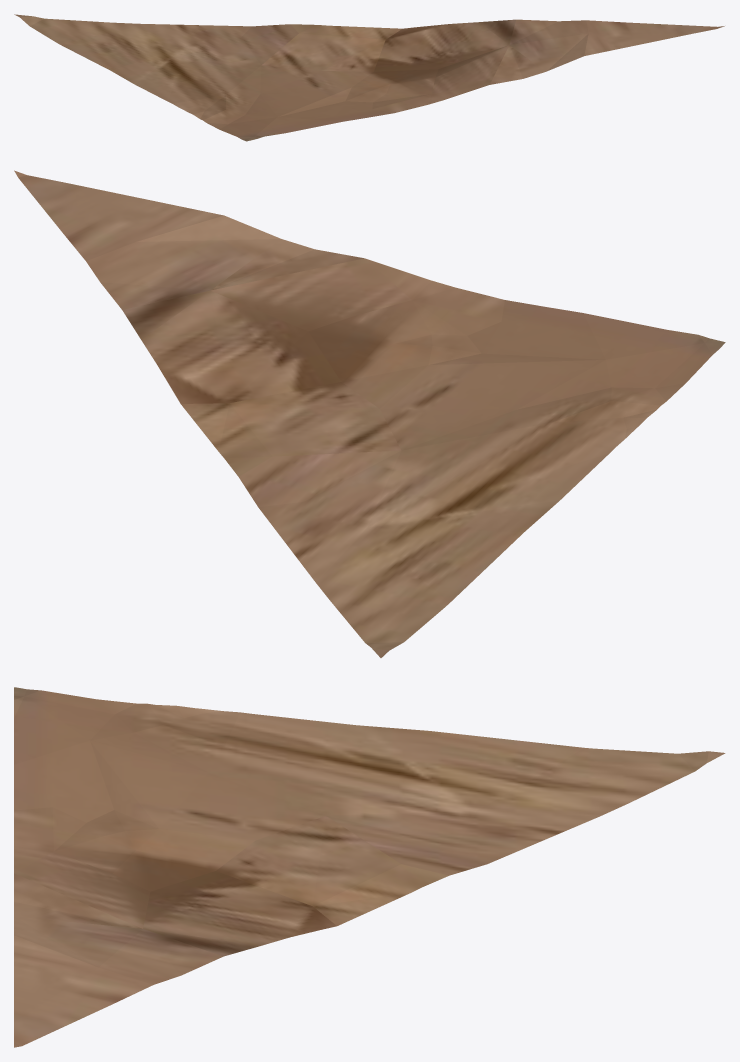
3 renders of one model, top to bottom at view 1: azimuth 30°, elevation 25°; view 2: azimuth 150°, elevation 25°; view 3: azimuth 270°, elevation 25°, orthographic. The views are drawn at different scales.
Bounding box in the file's own units: 2.82 × 0.2689 × 2.37.
1 material, 1 textured.
